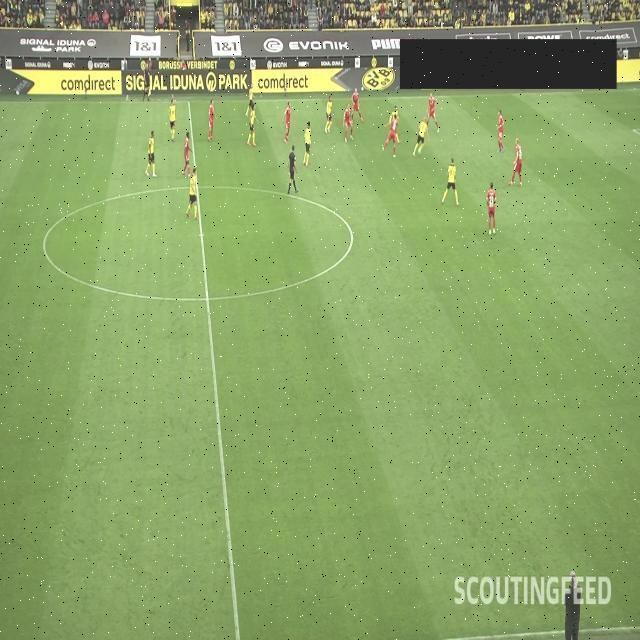Ball: (361, 85, 364, 91)
Referee: (286, 144, 298, 195), (142, 62, 151, 101)
TEAM 1: (382, 112, 398, 158), (508, 138, 523, 186), (486, 181, 497, 235), (425, 92, 439, 134), (351, 86, 364, 124), (496, 108, 506, 154), (342, 103, 353, 143), (182, 131, 191, 177), (208, 98, 217, 142), (283, 101, 291, 143)
TEAM 2: (440, 157, 460, 207), (412, 116, 430, 156), (144, 130, 158, 178), (186, 167, 198, 220), (244, 80, 258, 121), (246, 102, 258, 146), (388, 106, 401, 144), (302, 120, 312, 168), (168, 96, 176, 142), (325, 96, 333, 134)
